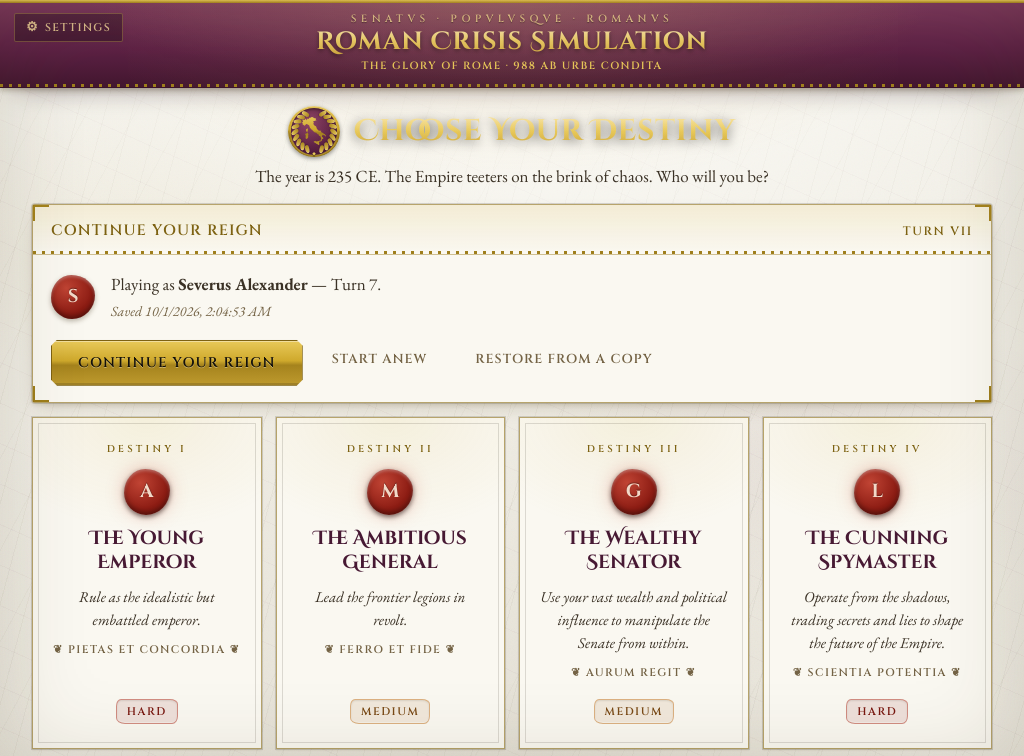
it: state-destiny-click-overwrites-saved-reign: a destiny over a saved reign asks first › starts the chosen destiny only once the abandonment is confirmed
Click the 5th button at point(147, 583), box [32, 417, 262, 749]
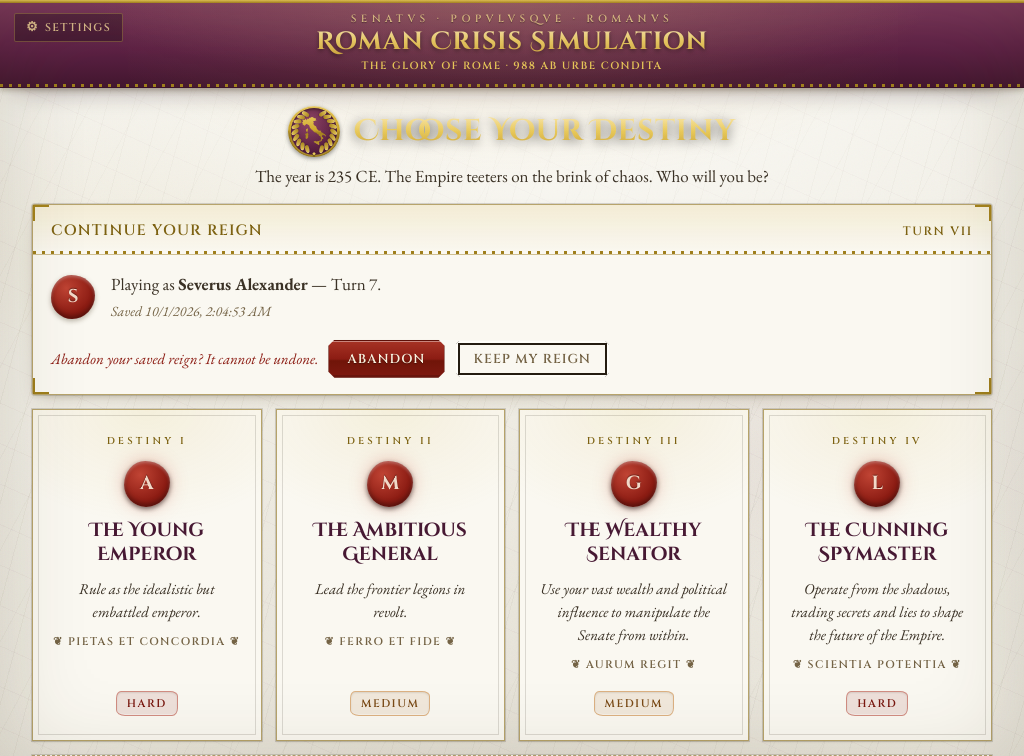
Click the button "Abandon" at point(386, 359), box [328, 340, 444, 378]
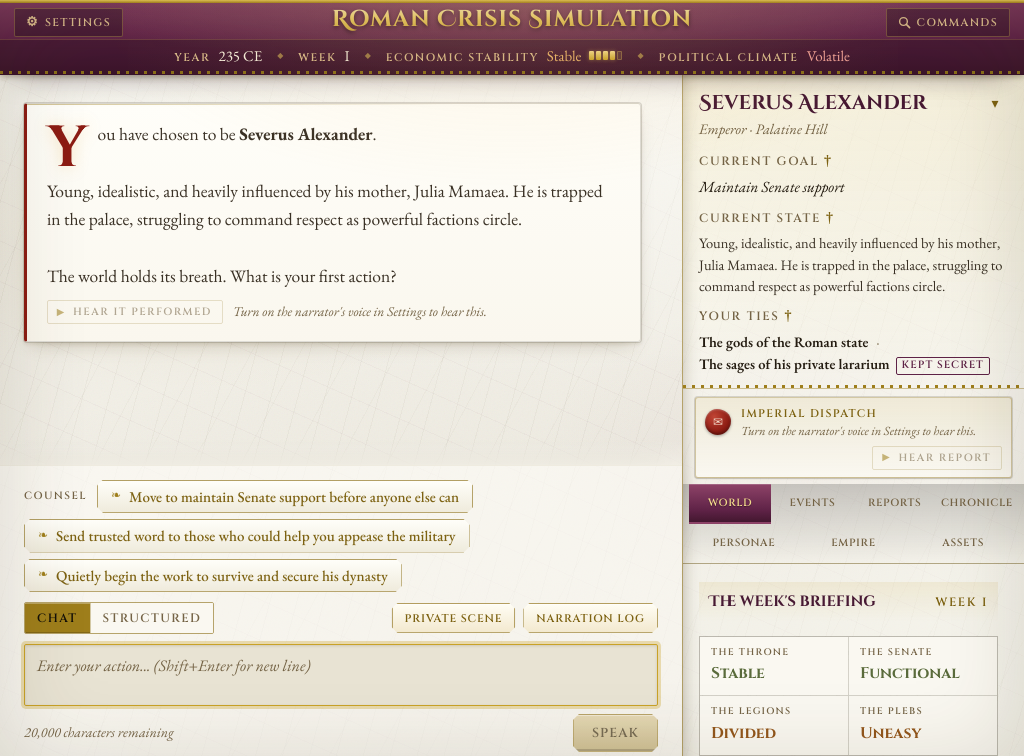
Now the text box named "Chat input" is shown, box [24, 644, 658, 706]
